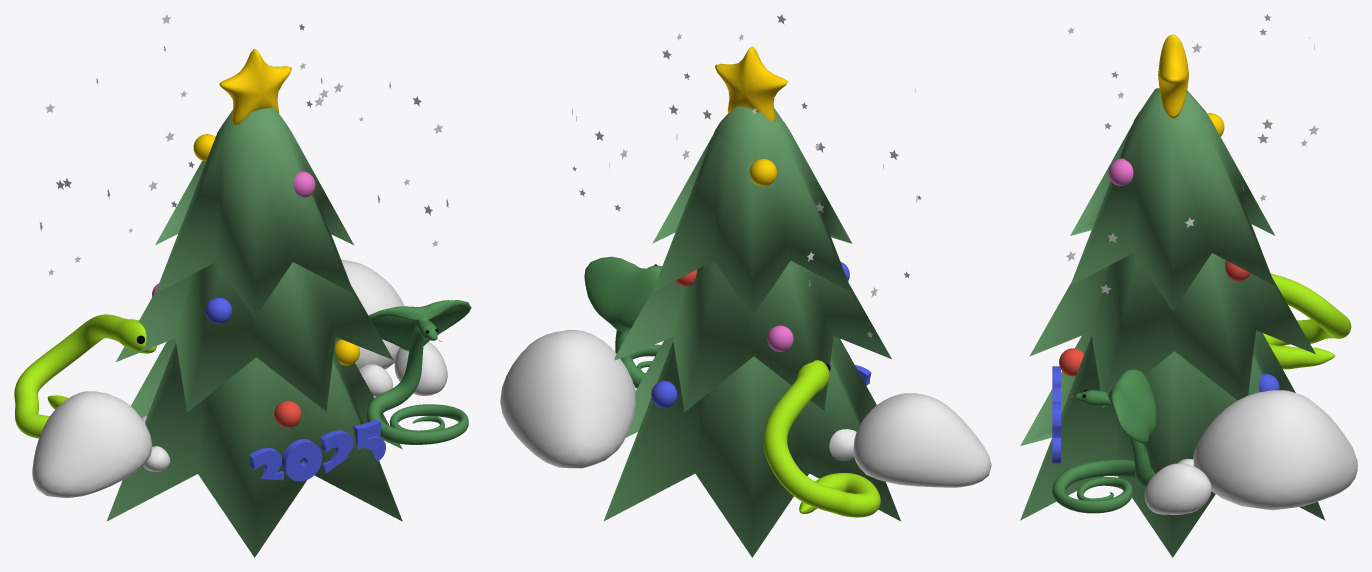
3 renders of one model, left to right at view 1: azimuth 30°, elevation 25°; view 2: azimuth 150°, elevation 25°; view 3: azimuth 270°, elevation 25°, orthographic. The views are drawn at different scales.
Visible parts, largest first — view 1: Cylinder.002, Cylinder.003, Cylinder.001, Sphere.018, Sphere.011, Zmeya, Sphere.007, Text, Zvezda, Sphere.003, Sphere; view 2: Cylinder.002, Cylinder.003, Cylinder.001, Sphere.007, Sphere.018, Zmeya, Sphere.011, Zvezda, Sphere.004; view 3: Cylinder.003, Cylinder.001, Sphere.007, Cylinder.002, Sphere.011, Zmeya, Zvezda, Text, Sphere.010, Sphere.003.
Part boxes in pixels (x1,y1,x2,y2): Cylinder.002: (106, 337, 402, 557); Cylinder.003: (155, 107, 354, 318); Cylinder.001: (116, 262, 393, 412); Sphere.018: (32, 391, 170, 497); Sphere.011: (366, 300, 471, 444); Zmeya: (14, 314, 156, 438); Sphere.007: (341, 259, 447, 396); Text: (249, 419, 385, 481); Zvezda: (219, 49, 291, 124); Sphere.003: (274, 400, 301, 428); Sphere: (205, 298, 232, 323); Cylinder.002: (604, 336, 900, 557); Cylinder.003: (652, 106, 852, 316); Cylinder.001: (614, 260, 891, 411); Sphere.007: (500, 330, 635, 468); Sphere.018: (829, 393, 991, 487); Zmeya: (763, 360, 880, 517); Sphere.011: (584, 256, 662, 388); Zvezda: (715, 46, 787, 121); Sphere.004: (749, 159, 777, 186); Cylinder.003: (1070, 88, 1275, 310); Cylinder.001: (1029, 253, 1315, 408); Sphere.007: (1144, 390, 1357, 514); Cylinder.002: (1020, 330, 1325, 557); Sphere.011: (1052, 369, 1156, 513); Zmeya: (1263, 273, 1351, 369); Zvezda: (1158, 34, 1188, 118); Text: (1052, 366, 1060, 463); Sphere.010: (1108, 158, 1133, 185); Sphere.003: (1059, 348, 1084, 376).
Bounding box in the file's own units: 1.77 × 1.75 × 1.19.
